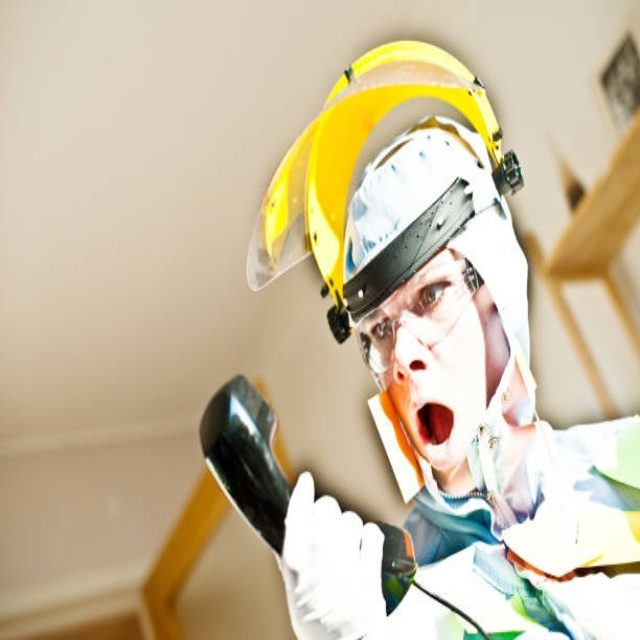Gafas: (355, 256, 480, 383)
Guantes: (281, 468, 391, 640)
Sin_mascara: (399, 384, 471, 473)
